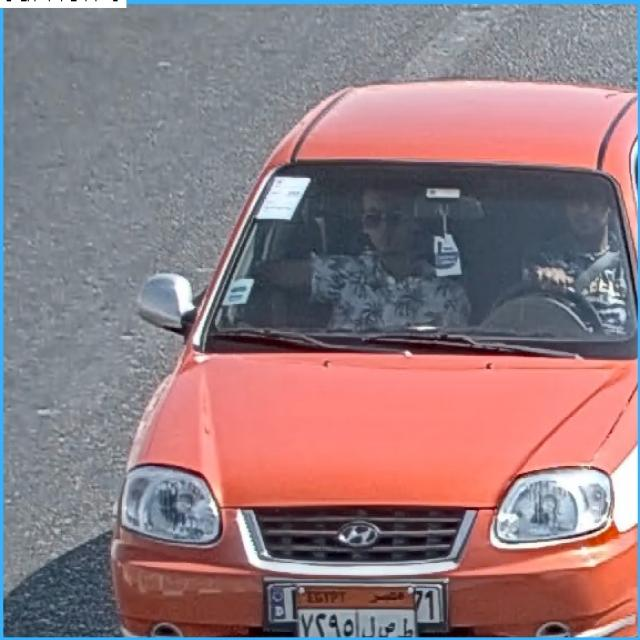windshield: (204, 167, 631, 340)
